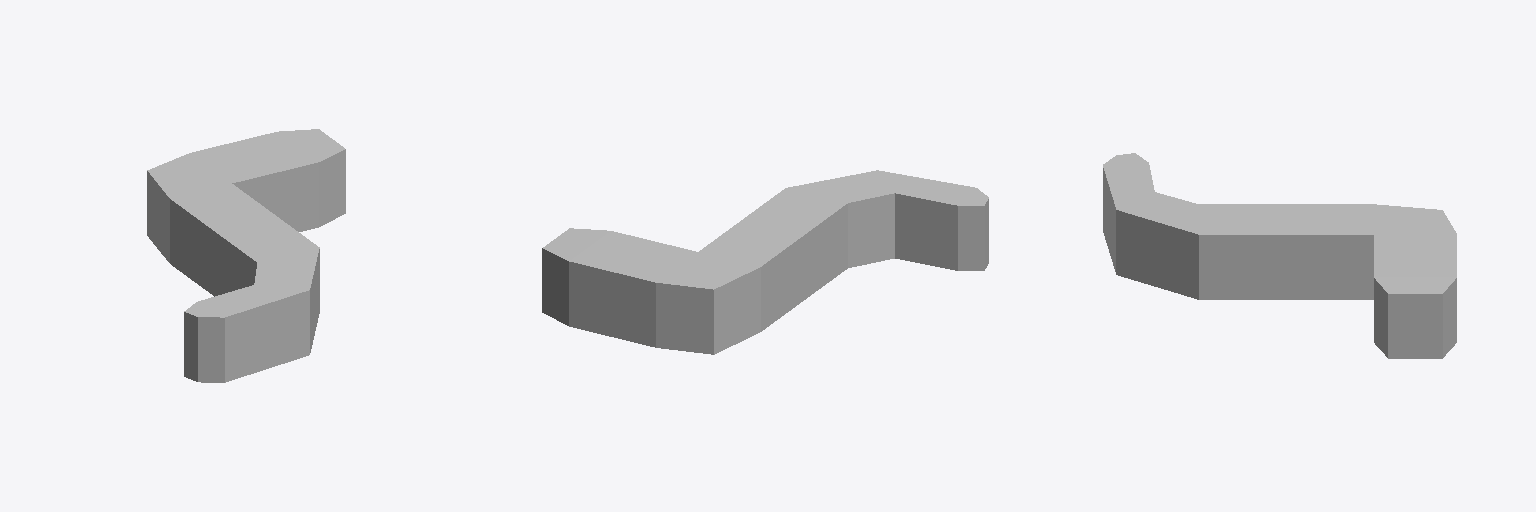
The model's file is Pipe2.obj.
3 views of the same model, side by side, from view 1: azimuth 30°, elevation 25°; view 2: azimuth 150°, elevation 25°; view 3: azimuth 270°, elevation 25° (orthographic).
Parts seen in each view (by area): view 1: Pipe2; view 2: Pipe2; view 3: Pipe2.
Boxes of the visible parts, <box> form: Pipe2: <box>147,129,345,382</box>; Pipe2: <box>542,170,988,354</box>; Pipe2: <box>1103,153,1456,358</box>.
Bounding box in the file's own units: 4.63 × 1 × 4.93.